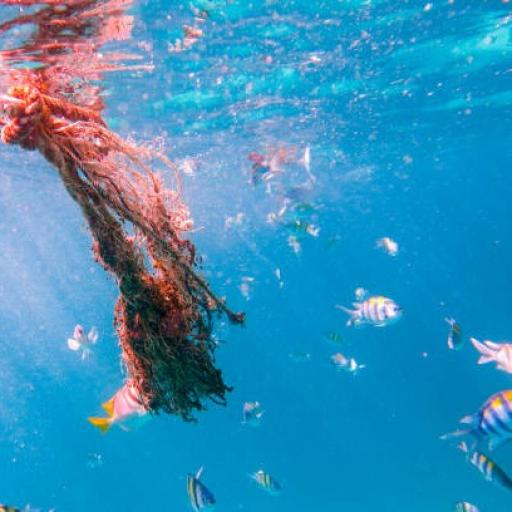net: (0, 75, 238, 421)
